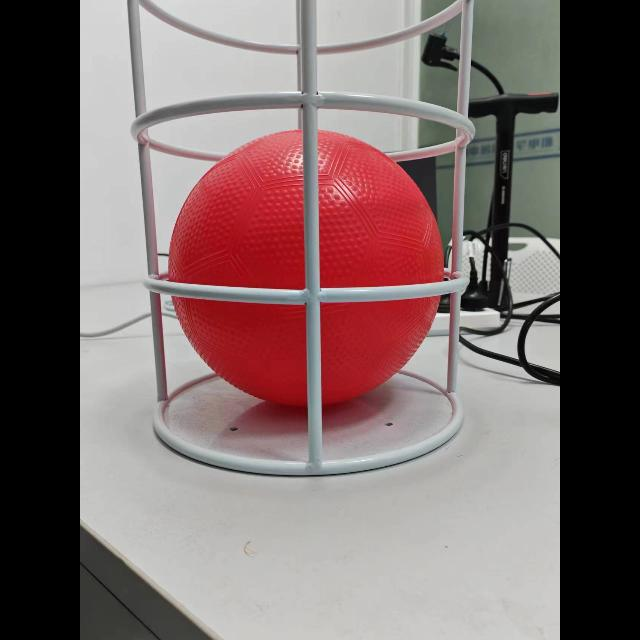R: (164, 118, 452, 408)
S: (112, 0, 476, 476)
